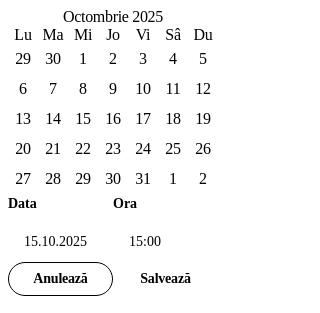
Calendar with time and actions › should revert invalid or out-of-range text
The width and height of the screenshot is (320, 313).
Replace the text in the field labelled "Data" with "31.02.2026" at (60, 242), box [8,222,113,262]
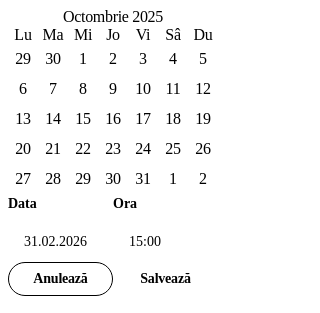
Leave the field labelled "Data", box [8,222,113,262]
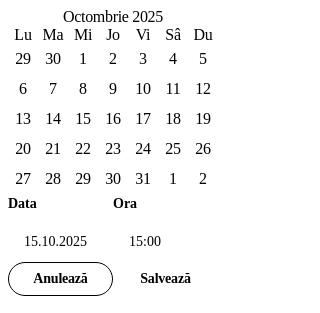
Check: the field labelled "Data" holds "15.10.2025"
Replace the text in the field labelled "Data" with "01.10.2025" at (60, 242), box [8,222,113,262]
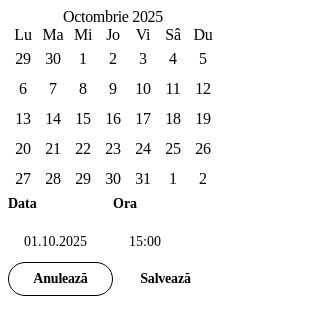
Leave the field labelled "Data", box [8,222,113,262]
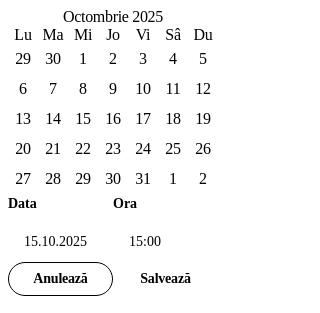
Check: the field labelled "Data" holds "15.10.2025", box [8,222,113,262]
Replace the text in the field labelled "Ora" with "25:00" at (166, 242), box [113,222,218,262]
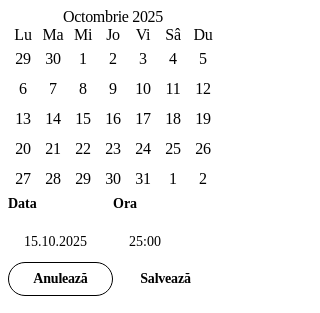
Leave the field labelled "Ora", box [113,222,218,262]
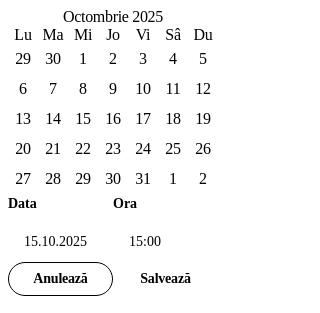
Check: the field labelled "Ora" holds "15:00", box [113,222,218,262]
